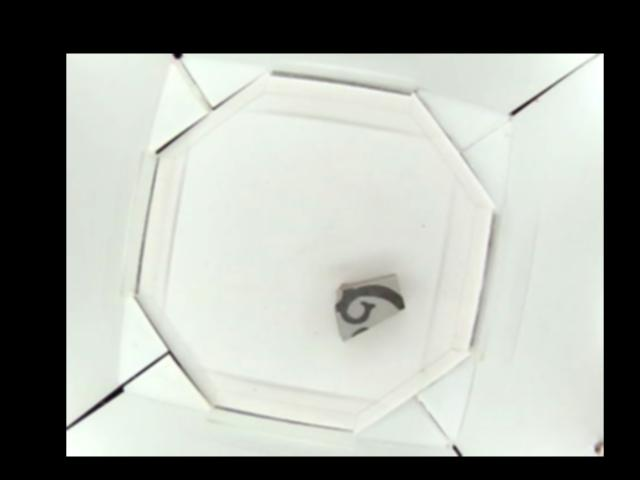China: (332, 273, 405, 340)
